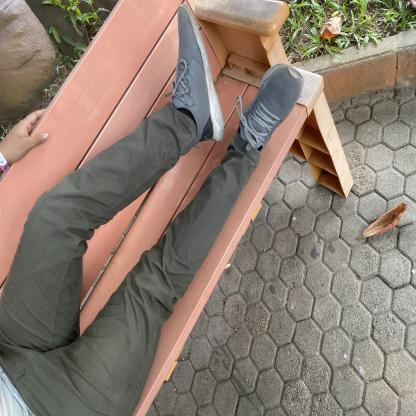hand: (0, 100, 55, 174)
leg: (106, 2, 228, 154), (220, 42, 309, 181)
